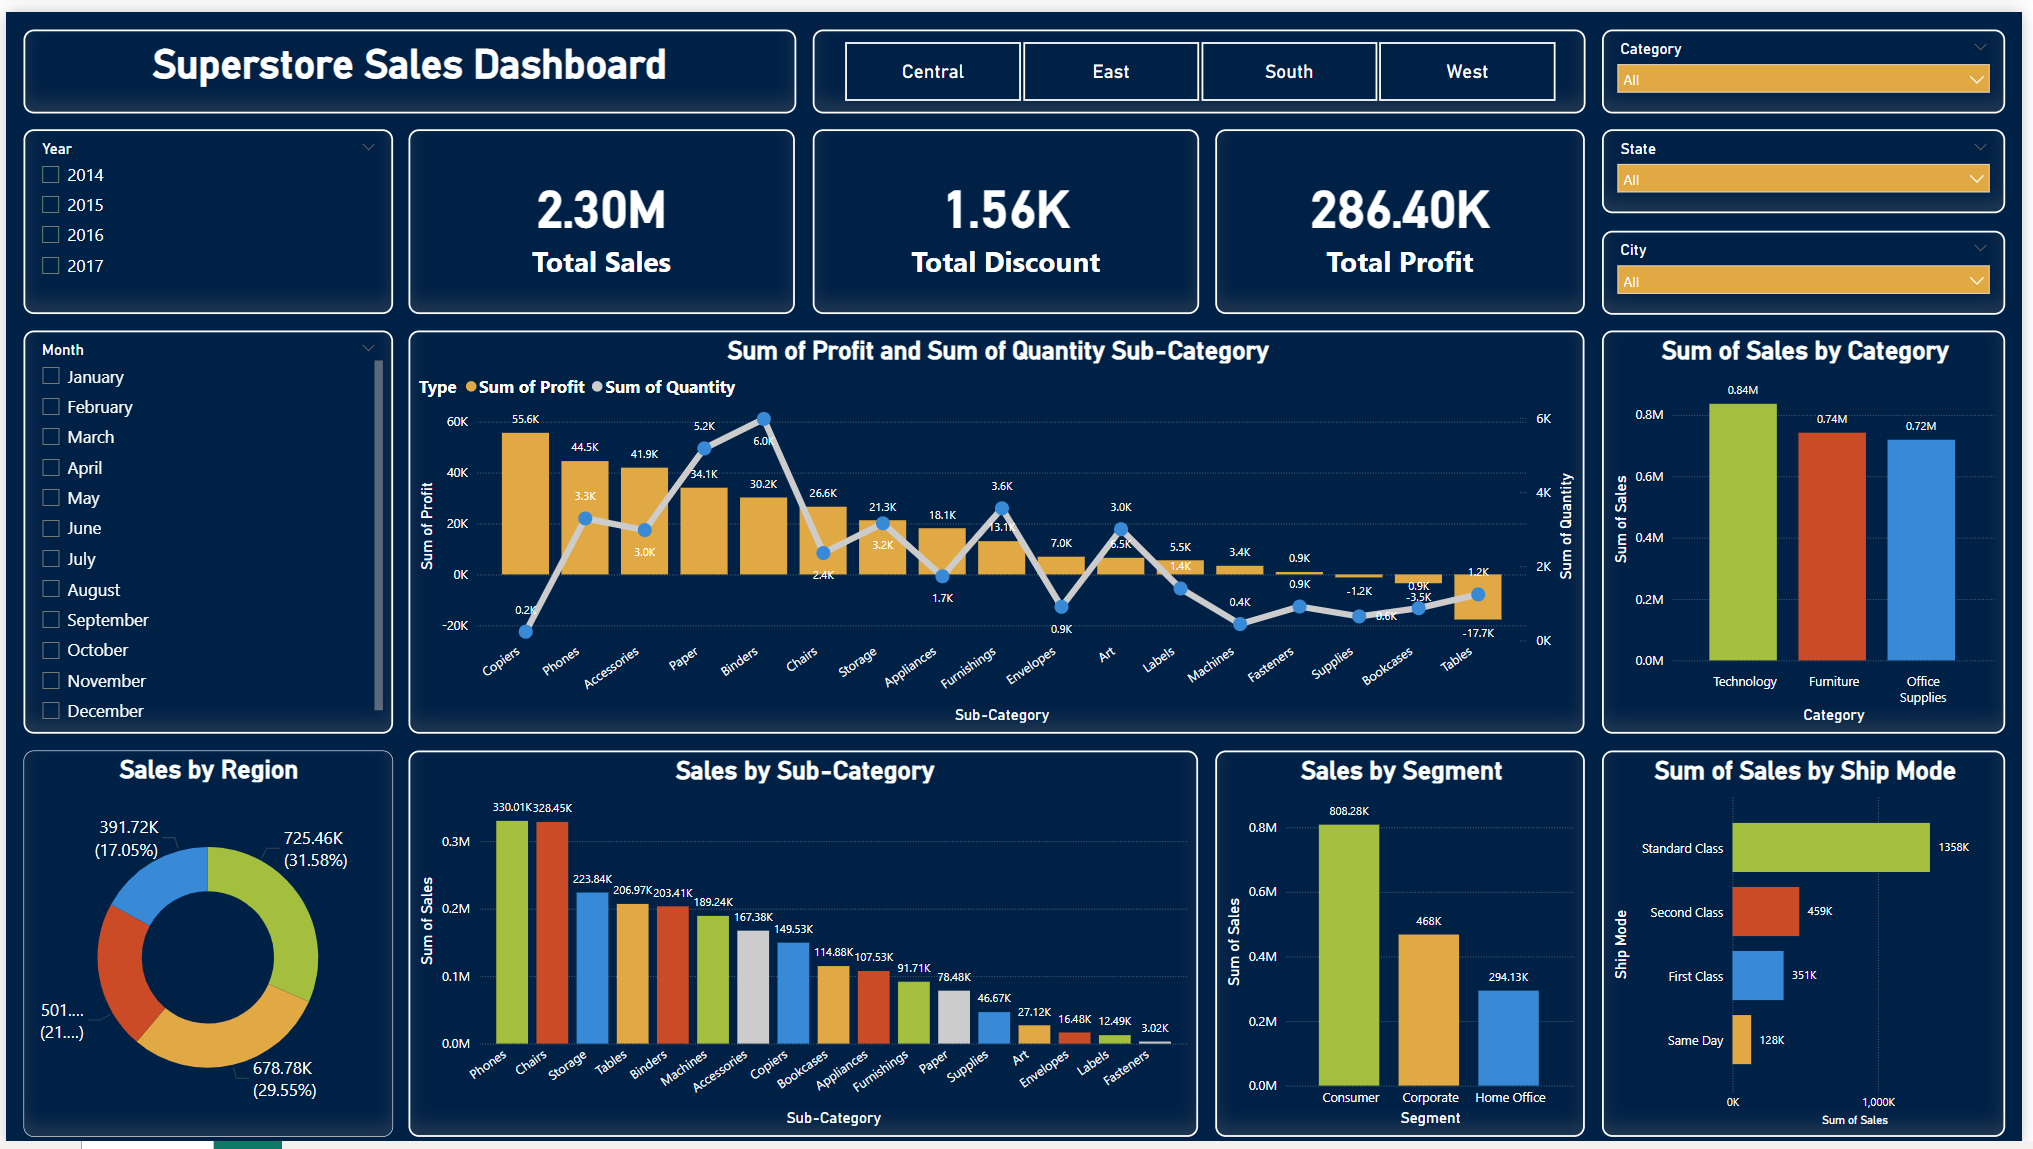

The page's visual inventory and layout, read from the dashboard file:
{"tool":"powerbi","page":{"name":"Page 1","canvas":[1920,1080],"ordinal":0},"visuals":[{"type":"card","title":"Viewers by Country","fields":{"Values":["Sum(Sample - Superstore.Profit)"]},"box":[1152,112,352,176],"z":0},{"type":"clusteredColumnChart","title":"Sales by Sub-Category","fields":{"Y":["Sum(Sample - Superstore.Sales)"],"Category":["Sample - Superstore.Sub-Category"]},"box":[384,704,752,368],"z":1000},{"type":"card","title":"Viewers by Country","fields":{"Values":["Sum(Sample - Superstore.Discount)"]},"box":[768,112,368,176],"z":2000},{"type":"card","title":"Total Sales","fields":{"Values":["Sum(Sample - Superstore.Sales)"]},"box":[384,112,368,176],"z":3000},{"type":"donutChart","title":"Sales by Region","fields":{"Category":["Sample - Superstore.Region"],"Y":["Sum(Sample - Superstore.Sales)"]},"box":[16,704,352,368],"z":4000},{"type":"textbox","box":[16,16,736,80],"z":5000},{"type":"slicer","fields":{"Values":["Sample - Superstore.Region"]},"box":[768,16,736,80],"z":6000},{"type":"slicer","title":"Category","fields":{"Values":["Sample - Superstore.Category"]},"box":[1520,16,384,80],"z":7000},{"type":"slicer","title":"Category","fields":{"Values":["Sample - Superstore.City"]},"box":[1520,208,384,80],"z":9000},{"type":"slicer","title":"Category","fields":{"Values":["Sample - Superstore.State"]},"box":[1520,112,384,80],"z":10000},{"type":"columnChart","title":"Sales by Segment","fields":{"Category":["Sample - Superstore.Segment"],"Y":["Sum(Sample - Superstore.Sales)"]},"box":[1152,704,352,368],"z":11000},{"type":"lineStackedColumnComboChart","title":"Sum of Profit and Sum of Quantity Sub-Category","fields":{"Y":["Sum(Sample - Superstore.Profit)"],"Y2":["Sum(Sample - Superstore.Quantity)"],"Category":["Sample - Superstore.Sub-Category"]},"box":[384,304,1120,384],"z":12000},{"type":"barChart","fields":{"Y":["Sum(Sample - Superstore.Sales)"],"Category":["Sample - Superstore.Ship Mode"]},"box":[1520,704,384,368],"z":13000},{"type":"columnChart","fields":{"Category":["Sample - Superstore.Category"],"Y":["Sum(Sample - Superstore.Sales)"]},"box":[1520,304,384,384],"z":14000},{"type":"slicer","fields":{"Values":["Sample - Superstore.Order Date.Variation.Date Hierarchy.Year"]},"box":[16,112,352,176],"z":15000},{"type":"slicer","fields":{"Values":["Sample - Superstore.Order Date.Variation.Date Hierarchy.Month"]},"box":[16,304,352,384],"z":16000}]}

Visuals, with their boxes in screenshot pixels (x1, y1, x2, y2), scaled from the page's 1920x1080 canvas onto the 2033x1149 screenshot:
"Viewers by Country" card: <box>1220,119,1593,306</box>
"Sales by Sub-Category" clusteredColumnChart: <box>407,749,1203,1140</box>
"Viewers by Country" card: <box>813,119,1203,306</box>
"Total Sales" card: <box>407,119,796,306</box>
"Sales by Region" donutChart: <box>17,749,390,1140</box>
textbox: <box>17,17,796,102</box>
slicer - Sample - Superstore.Region: <box>813,17,1593,102</box>
"Category" slicer: <box>1609,17,2016,102</box>
"Category" slicer: <box>1609,221,2016,306</box>
"Category" slicer: <box>1609,119,2016,204</box>
"Sales by Segment" columnChart: <box>1220,749,1593,1140</box>
"Sum of Profit and Sum of Quantity Sub-Category" lineStackedColumnComboChart: <box>407,323,1593,732</box>
barChart - Sum(Sample - Superstore.Sales) x Sample - Superstore.Ship Mode: <box>1609,749,2016,1140</box>
columnChart - Sample - Superstore.Category x Sum(Sample - Superstore.Sales): <box>1609,323,2016,732</box>
slicer - Sample - Superstore.Order Date.Variation.Date Hierarchy.Year: <box>17,119,390,306</box>
slicer - Sample - Superstore.Order Date.Variation.Date Hierarchy.Month: <box>17,323,390,732</box>
